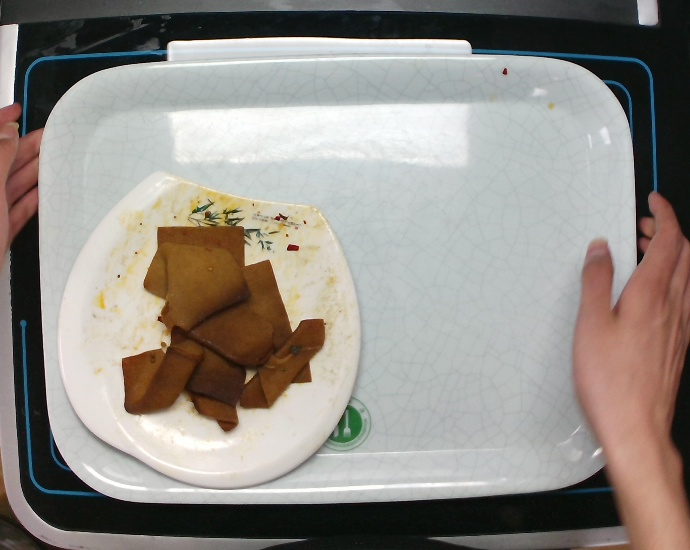JYsf-Mian_Pan: (44, 164, 368, 492)
